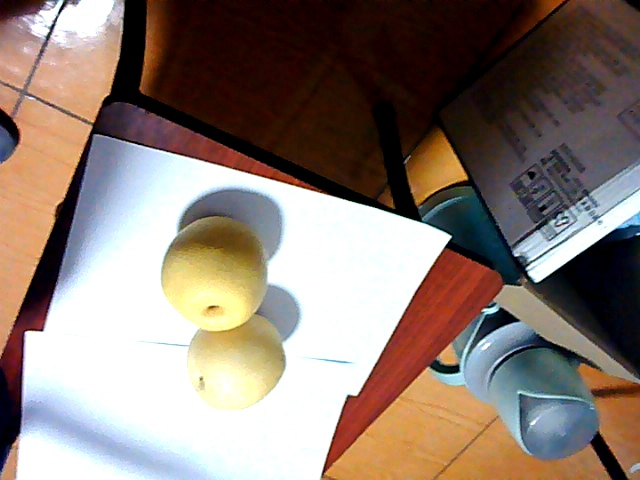pear: (156, 220, 283, 413)
